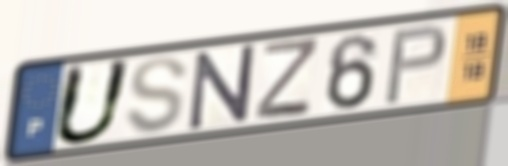6: (325, 31, 382, 112)
N: (187, 40, 258, 134)
P: (381, 21, 450, 108)
S: (122, 54, 190, 137)
U: (48, 56, 137, 148)
Z: (251, 34, 322, 121)
